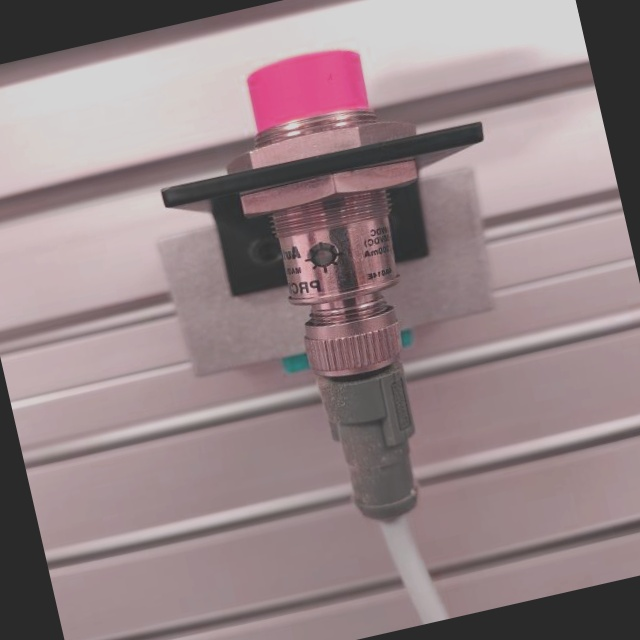inductive sensor: (107, 12, 569, 569)
